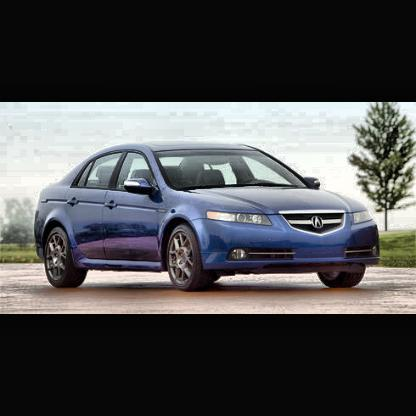Acura TL Type-S 2008: (34, 142, 384, 294)
